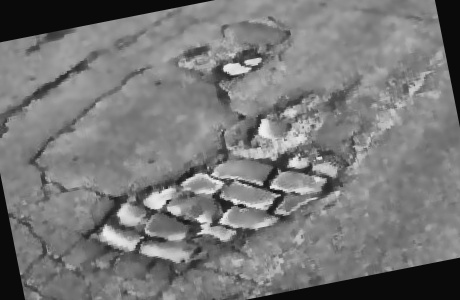pothole: (74, 132, 363, 288), (233, 86, 337, 159), (214, 46, 268, 81)
